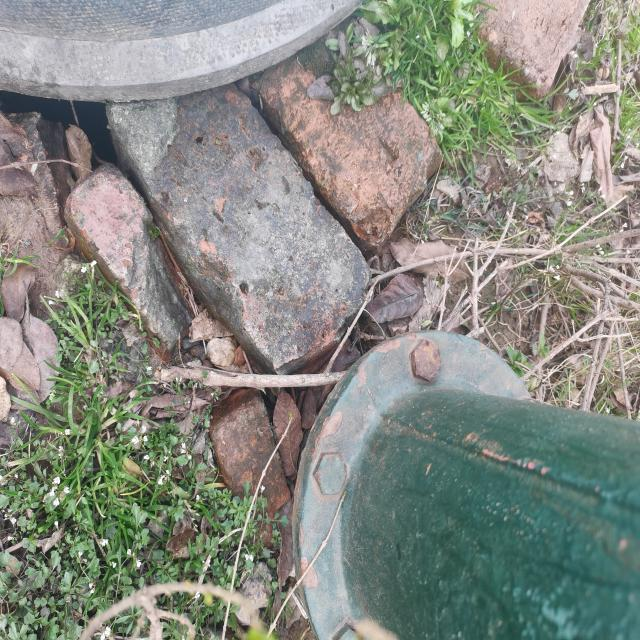bolt head: (312, 451, 348, 496), (410, 337, 442, 383)
